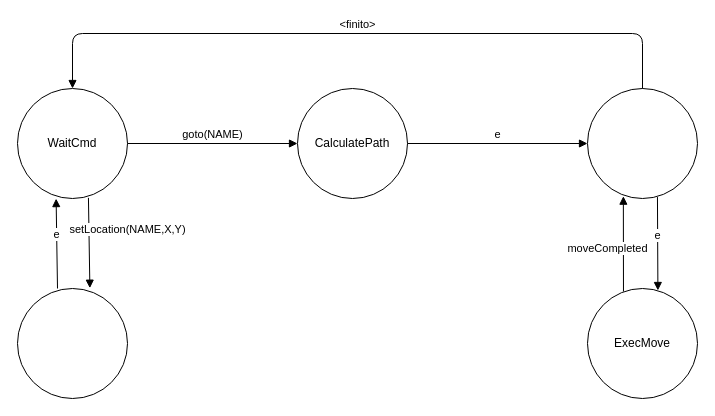
Image size: 715x416. Some labels were removed from this diagram. The shapes that lost their labels are listed below. From the top down, each one's box as (x1, y1, x2, y2) in pixels, then its label:
(586, 88, 698, 198): ScheduleNextMove
(16, 288, 128, 398): UpdateRoom
